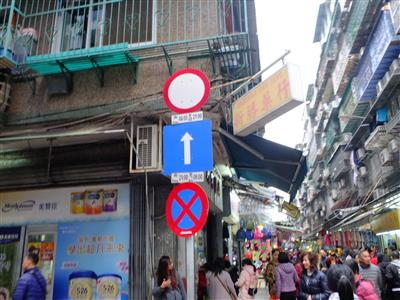closedToAll: (162, 66, 212, 113)
noStopping: (161, 179, 213, 240)
oneway: (160, 118, 216, 175)
